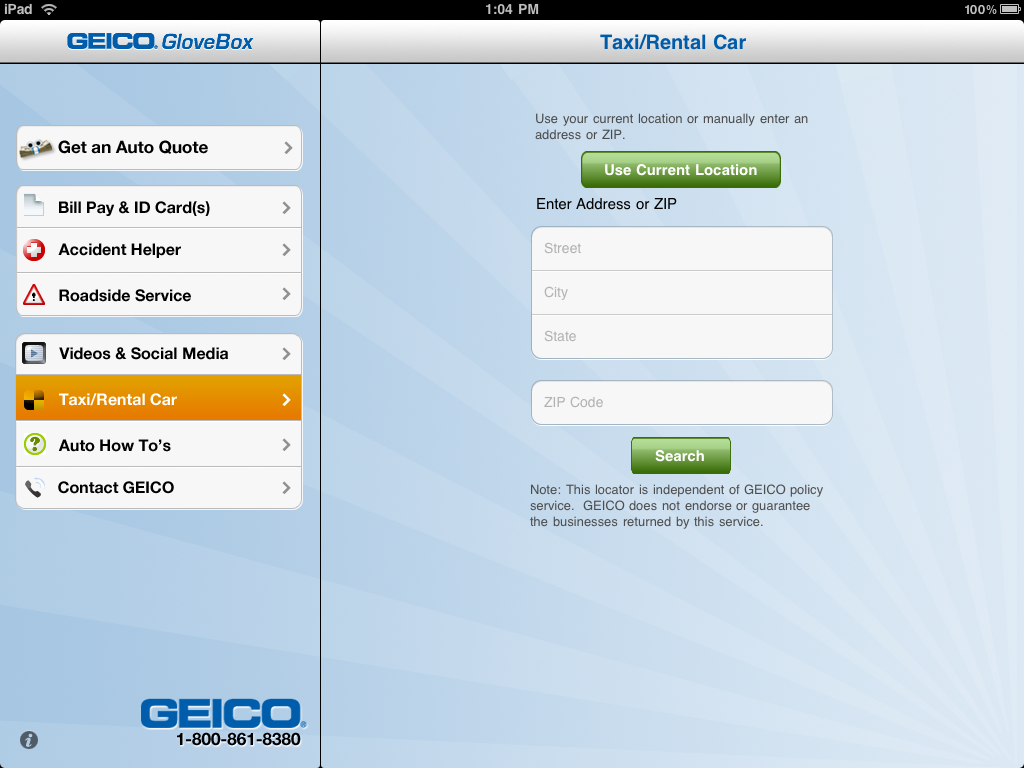geico: (129, 691, 317, 735), (67, 28, 161, 58)
